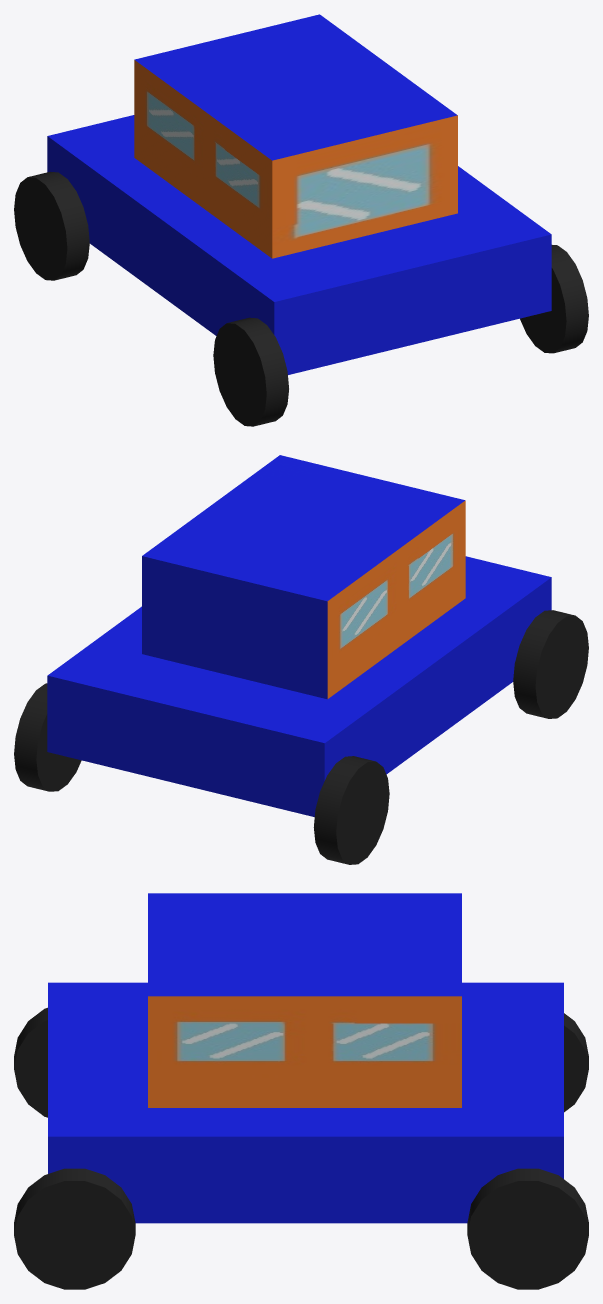
File: car_blue.FBX
3 renders of one model, top to bottom at view 1: azimuth 30°, elevation 25°; view 2: azimuth 150°, elevation 25°; view 3: azimuth 270°, elevation 25°, orthographic. The views are drawn at different scales.
Visible parts, largest first — view 1: Cylinder004; view 2: Cylinder004; view 3: Cylinder004.
Part boxes in pixels (x1=…): Cylinder004: x1=14, y1=14, x2=588, y2=426; Cylinder004: x1=14, y1=455, x2=588, y2=864; Cylinder004: x1=14, y1=893, x2=588, y2=1289.
Size of the model in its own units: 697 by 460 by 947.
Materials: 3 (1 with a texture image).
